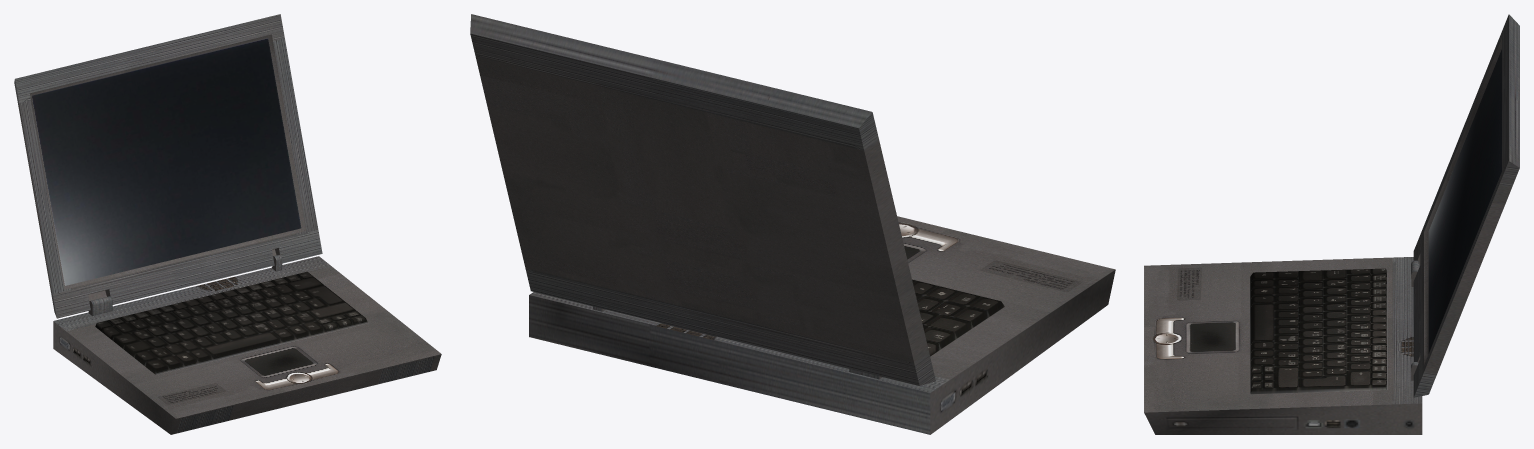
The model's file is old_laptop.obj.
3 renders of one model, left to right at view 1: azimuth 30°, elevation 25°; view 2: azimuth 150°, elevation 25°; view 3: azimuth 270°, elevation 25°, orthographic. The views are drawn at different scales.
Parts seen in each view (by area): view 1: Box002, Box001; view 2: Box002, Box001; view 3: Box001, Box002.
Boxes of the visible parts, left/top/right/bottom form: Box002: left=14, top=14, right=322, bottom=318; Box001: left=53, top=254, right=441, bottom=434; Box002: left=470, top=14, right=935, bottom=385; Box001: left=529, top=216, right=1115, bottom=434; Box001: left=1144, top=257, right=1422, bottom=434; Box002: left=1413, top=14, right=1519, bottom=397.
Bounding box in the file's own units: 100 × 86.98 × 108.
Materials: 1 (1 with a texture image).
